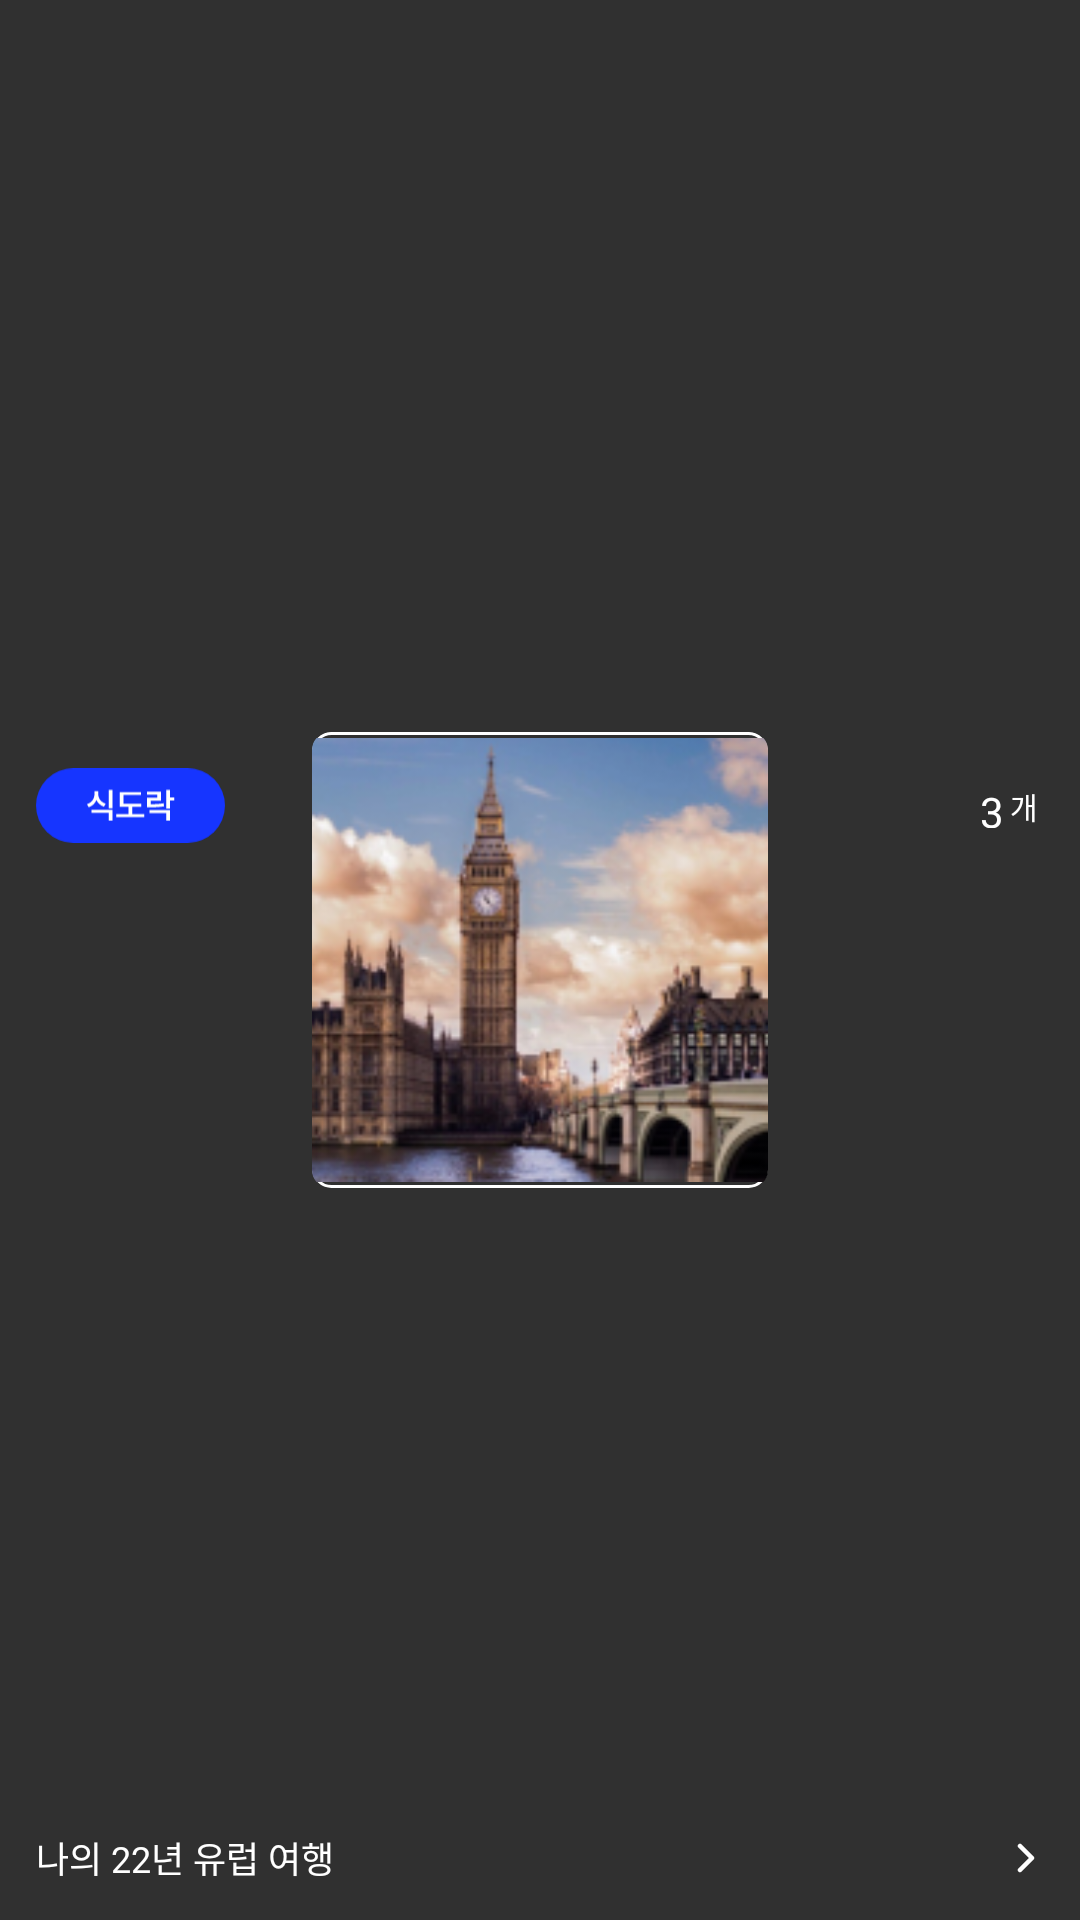

Screen size 1080px x 1920px. Icon name, then its center in pixels as (x=x, y=y):
next: (x=1026, y=1858)
